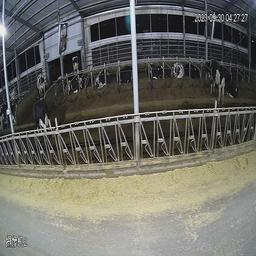cow: (28, 94, 53, 146), (205, 51, 226, 107), (67, 71, 86, 101), (229, 66, 244, 103), (118, 59, 133, 90), (92, 64, 108, 91), (33, 70, 48, 96), (148, 58, 163, 83), (187, 57, 199, 84), (170, 61, 184, 84)
